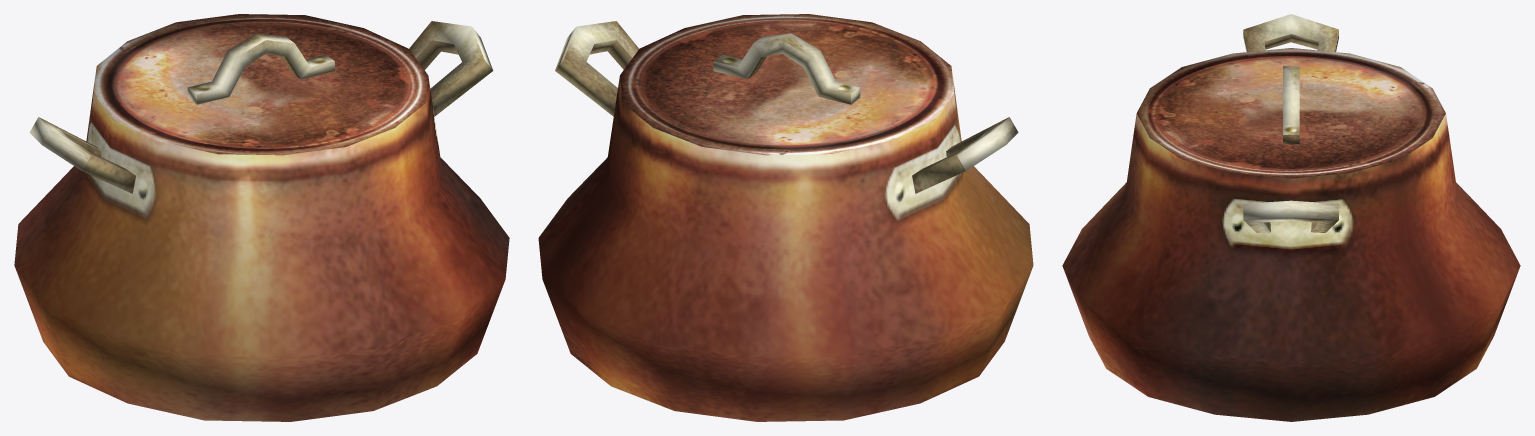
The model's file is saucepan.fbx.
3 renders of one model, left to right at view 1: azimuth 30°, elevation 25°; view 2: azimuth 150°, elevation 25°; view 3: azimuth 270°, elevation 25°, orthographic. The views are drawn at different scales.
Parts seen in each view (by area): view 1: saucepan; view 2: saucepan; view 3: saucepan.
Boxes of the visible parts, bbox=[...] form: saucepan: bbox=[14, 14, 509, 421]; saucepan: bbox=[538, 14, 1033, 421]; saucepan: bbox=[1062, 14, 1520, 421].
Size of the model in its own units: 40.95 by 26.11 by 40.73.
